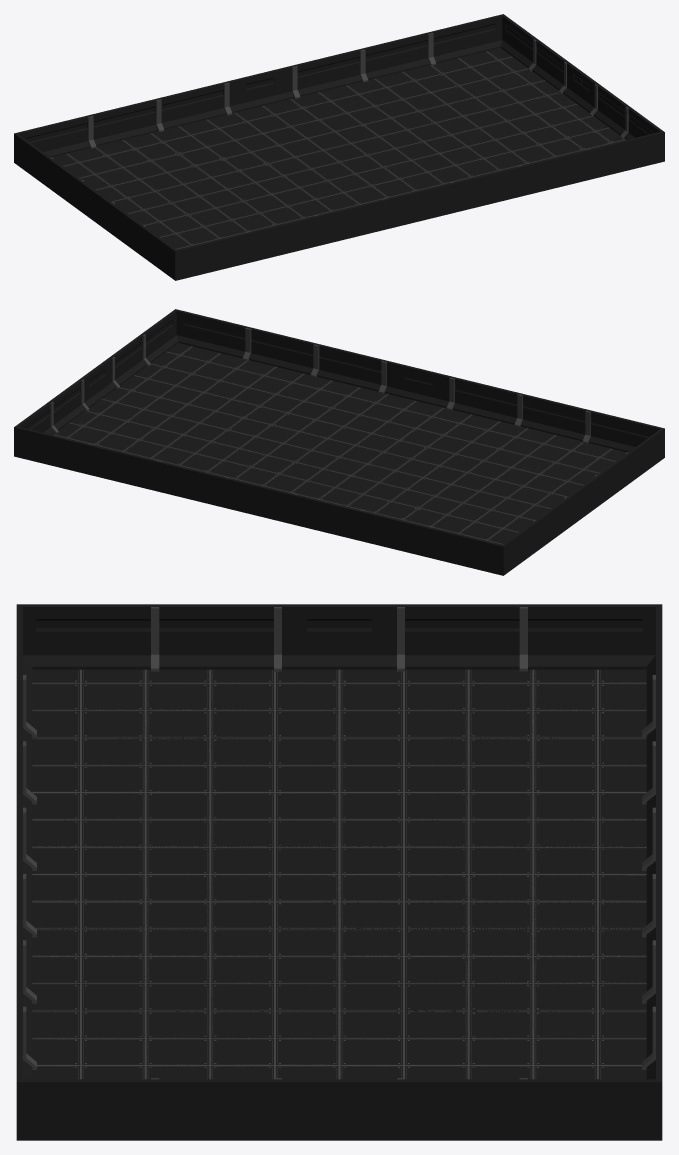
The model's file is RoomMeshes.fbx.
3 views of the same model, one above another, from view 1: azimuth 30°, elevation 25°; view 2: azimuth 150°, elevation 25°; view 3: azimuth 270°, elevation 25° (orthographic). The views are drawn at different scales.
Visible parts, largest first — view 1: TR/BL, L/R, TL/BR, LR, TB, TBLR; view 2: TR/BL, L/R, TL/BR, TB, T/B, LR, TBLR; view 3: TR/BL, TL/BR, L/R, T/B, TB, LR, TBLR.
Boxes of the visible parts, x1=… form: TR/BL: x1=14, y1=14, x2=664, y2=280; L/R: x1=17, y1=14, x2=664, y2=280; TL/BR: x1=80, y1=48, x2=609, y2=249; LR: x1=93, y1=53, x2=574, y2=213; TB: x1=133, y1=117, x2=569, y2=247; TBLR: x1=103, y1=136, x2=522, y2=240; TR/BL: x1=14, y1=309, x2=664, y2=575; L/R: x1=14, y1=309, x2=664, y2=575; TL/BR: x1=54, y1=343, x2=626, y2=543; TB: x1=103, y1=347, x2=626, y2=508; T/B: x1=108, y1=345, x2=625, y2=504; LR: x1=53, y1=375, x2=546, y2=541; TBLR: x1=105, y1=345, x2=608, y2=501; TR/BL: x1=16, y1=604, x2=662, y2=1140; TL/BR: x1=32, y1=604, x2=658, y2=1140; L/R: x1=16, y1=604, x2=662, y2=1140; T/B: x1=32, y1=669, x2=338, y2=1079; TB: x1=16, y1=669, x2=339, y2=1079; LR: x1=339, y1=670, x2=662, y2=1079; TBLR: x1=16, y1=671, x2=339, y2=1076.
Bounding box in the file's own units: 3500 × 200 × 2000.
